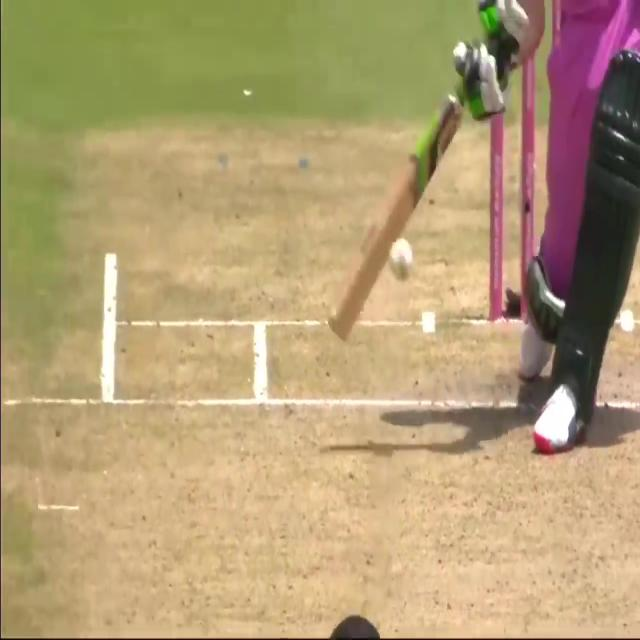Ball: (444, 1, 640, 452)
Batsman: (381, 226, 422, 290)
